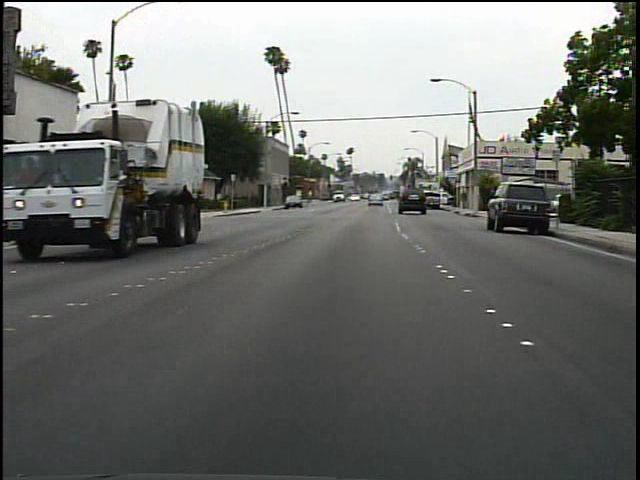person: (455, 186, 472, 215)
